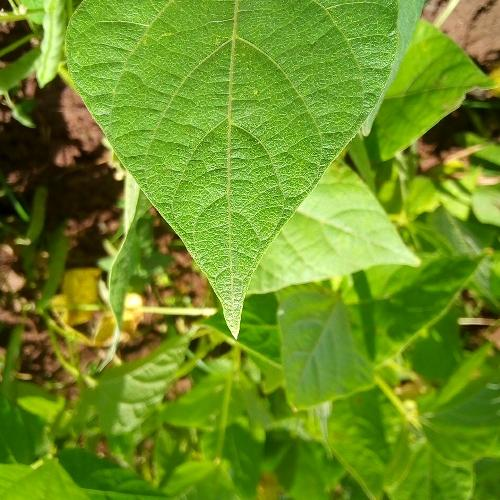embun tepung: (163, 0, 293, 232)
